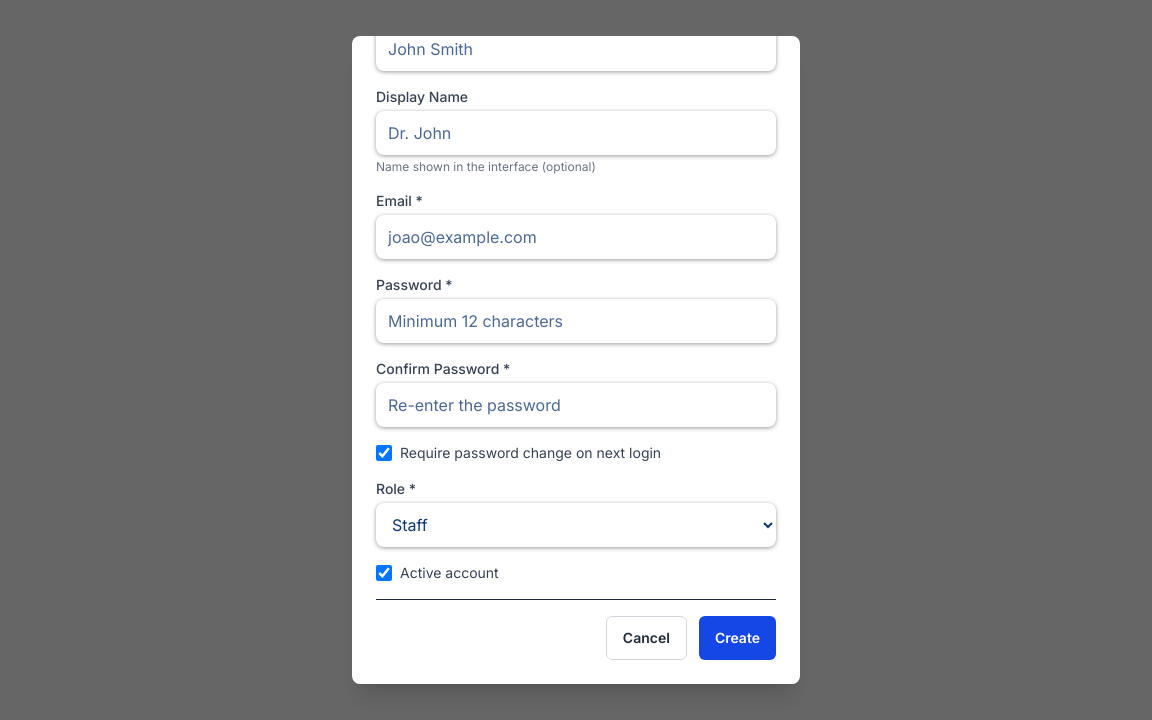
Test case: UserForm › Create Mode › should validate required fields
(page scrolled)
Click the button "Create" at (737,638), box x1=699 y1=616 x2=776 y2=660
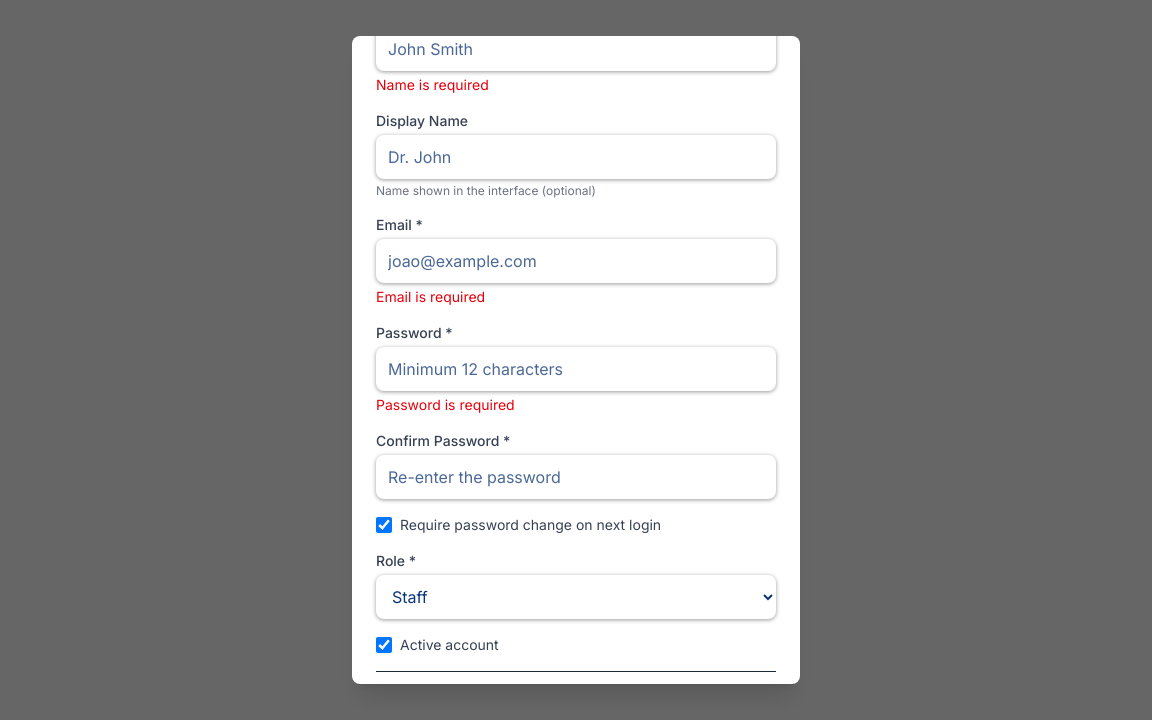
Now the text "Name is required" is shown, box x1=376 y1=76 x2=489 y2=93
Now the text "Email is required" is shown, box x1=376 y1=288 x2=485 y2=305
Now the text "Password is required" is shown, box x1=376 y1=396 x2=515 y2=413
